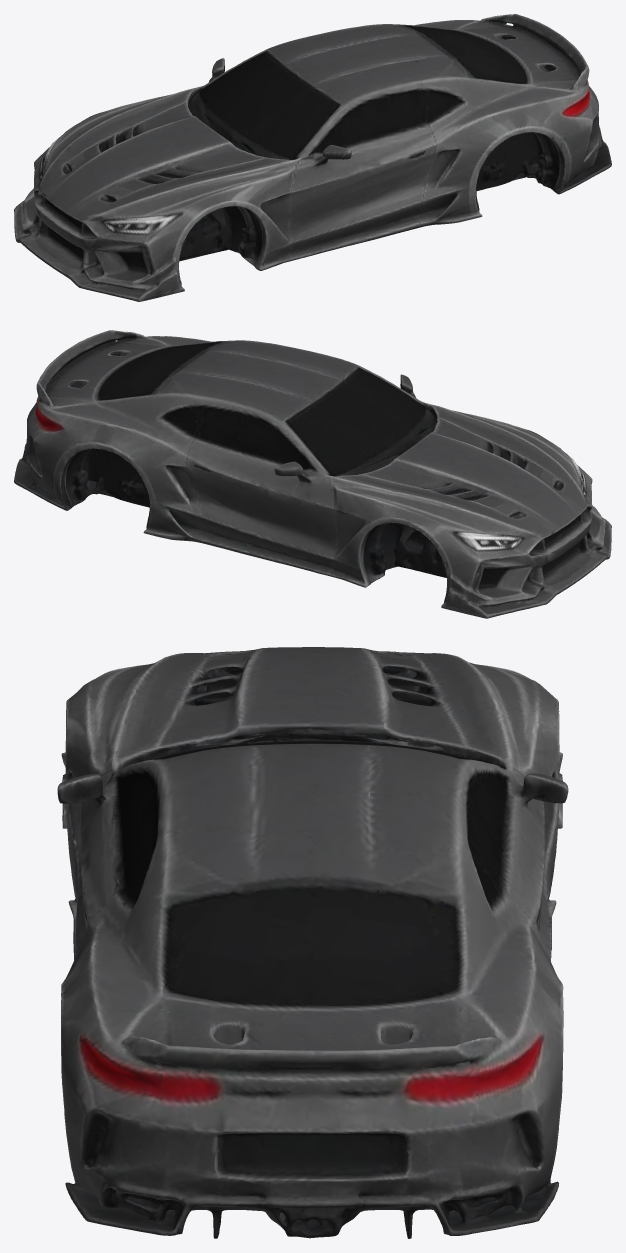
Rendered from Meshy_AI_Shadowline_Apex_0917172718_texture-optimized.glb.
3 views of the same model, one above another, from view 1: azimuth 30°, elevation 25°; view 2: azimuth 150°, elevation 25°; view 3: azimuth 270°, elevation 25° (orthographic). The views are drawn at different scales.
Bounding box in the file's own units: 1.9 × 0.4751 × 0.7905.
Materials: 1 (1 with a texture image).
